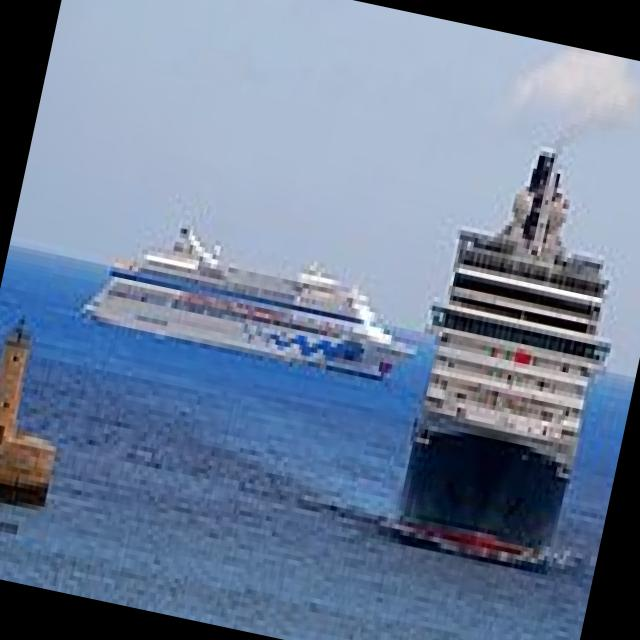boat: (387, 152, 640, 575), (91, 228, 425, 392)
